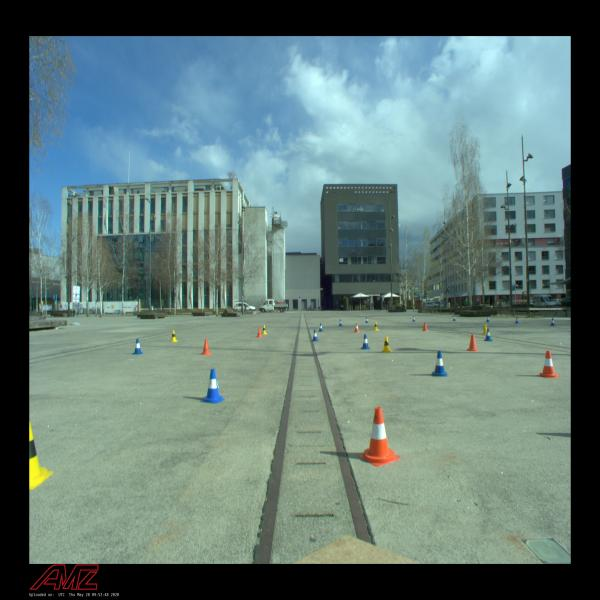blue_cone: (201, 368, 225, 404), (430, 351, 448, 376), (132, 338, 143, 354), (360, 334, 370, 350), (484, 328, 492, 342), (312, 330, 319, 342), (318, 323, 324, 332), (514, 316, 520, 324), (550, 318, 556, 326), (338, 320, 343, 326), (485, 316, 490, 322), (365, 317, 369, 323), (412, 316, 416, 322), (452, 316, 456, 322)
orange_cone: (358, 407, 400, 467), (536, 350, 560, 379), (467, 334, 478, 352), (201, 339, 211, 355), (256, 327, 263, 338), (422, 322, 429, 331), (354, 323, 360, 333)
yellow_cone: (381, 336, 392, 353), (170, 330, 178, 342), (482, 324, 490, 334), (373, 321, 379, 331), (262, 325, 267, 335)
